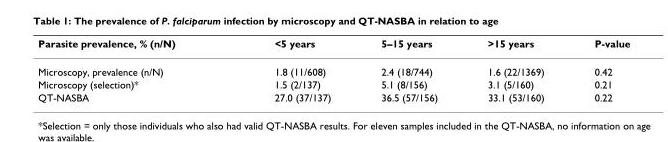table: (37, 36, 629, 102)
table column: (37, 36, 224, 102), (224, 36, 355, 102), (355, 36, 462, 102), (462, 36, 568, 102), (568, 36, 629, 102)
table column header: (37, 36, 629, 57)
table row: (37, 36, 629, 57), (37, 57, 629, 77), (37, 77, 629, 90), (37, 90, 629, 102)
